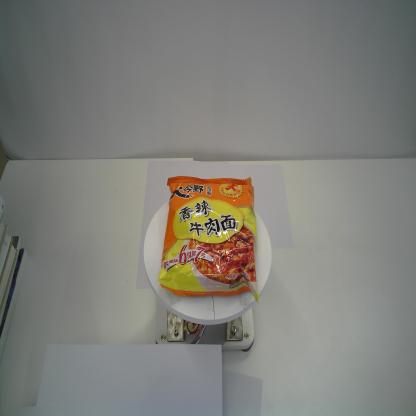Instant Noodles: (158, 175, 260, 306)
